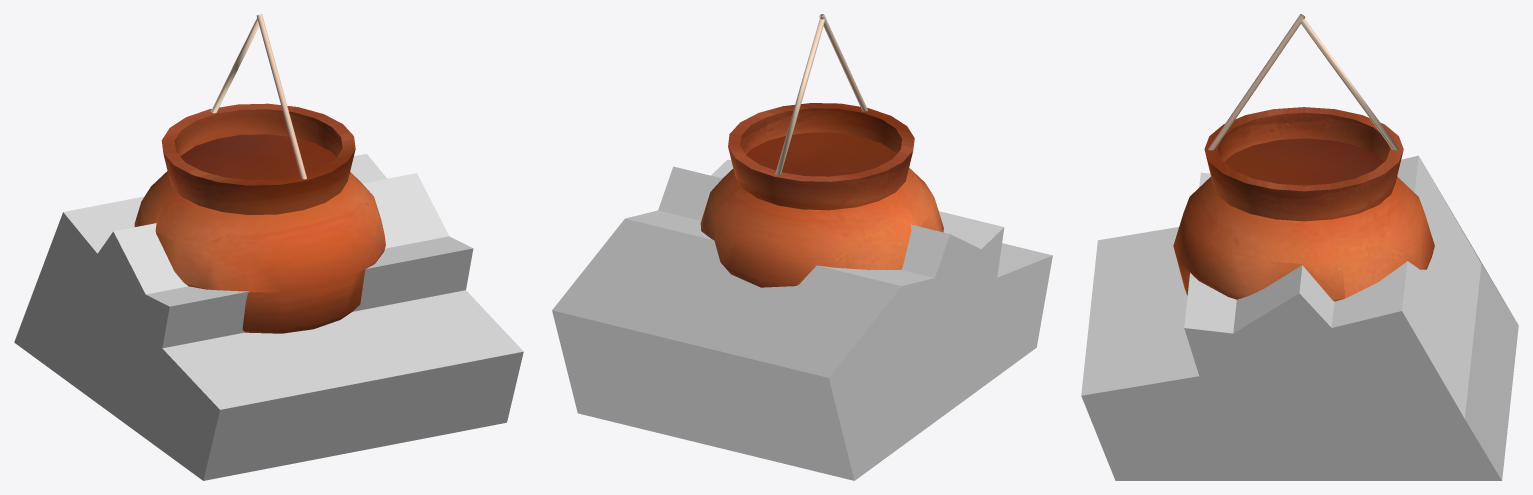
File: brokenKnamuttiya.fbx
The picture shows the model from 3 angles, left to right: view 1: azimuth 30°, elevation 25°; view 2: azimuth 150°, elevation 25°; view 3: azimuth 270°, elevation 25°; orthographic projection. The views are drawn at different scales.
Visible parts, largest first — view 1: Cube, Cylinder, Cylinder.001; view 2: Cube, Cylinder, Cylinder.001; view 3: Cube, Cylinder, Cylinder.001.
Boxes of the visible parts, x1=… form: Cube: x1=14, y1=153, x2=523, y2=480; Cylinder: x1=134, y1=103, x2=385, y2=333; Cylinder.001: x1=210, y1=14, x2=306, y2=179; Cube: x1=552, y1=159, x2=1052, y2=480; Cylinder: x1=700, y1=103, x2=943, y2=287; Cylinder.001: x1=775, y1=14, x2=867, y2=175; Cube: x1=1081, y1=155, x2=1518, y2=480; Cylinder: x1=1173, y1=107, x2=1434, y2=301; Cylinder.001: x1=1208, y1=14, x2=1399, y2=150.
Size of the model in its own units: 403 by 430 by 439.
